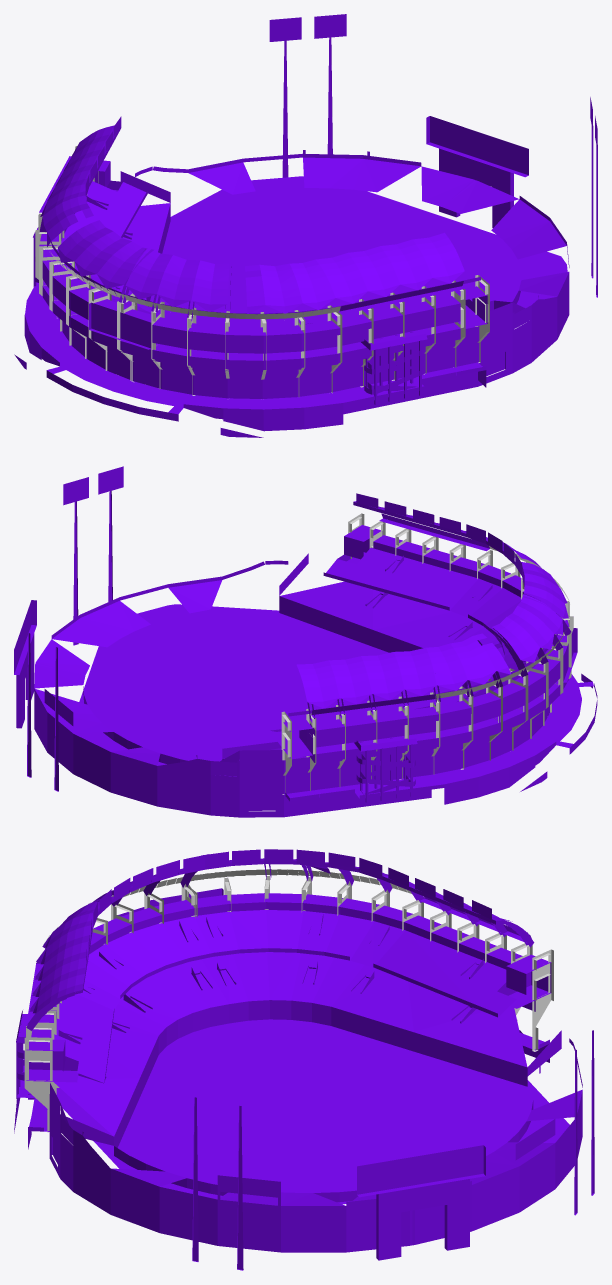
File: clbf.gltf
3 renders of one model, top to bottom at view 1: azimuth 30°, elevation 25°; view 2: azimuth 150°, elevation 25°; view 3: azimuth 270°, elevation 25°, orthographic. The views are drawn at different scales.
Visible parts, largest first — view 1: skp5DFB_001; view 2: skp5DFB_001, Component#2_013; view 3: skp5DFB_001, Component_013, Component#2_013.
Boxes of the visible parts, x1,y1,x2,y2 form: skp5DFB_001: [14, 14, 597, 437]; skp5DFB_001: [14, 466, 597, 817]; Component#2_013: [281, 711, 291, 794]; skp5DFB_001: [14, 849, 594, 1270]; Component_013: [24, 1037, 52, 1132]; Component#2_013: [532, 949, 553, 1051].
Bounding box in the file's own units: 225598 × 69453 × 196001.
